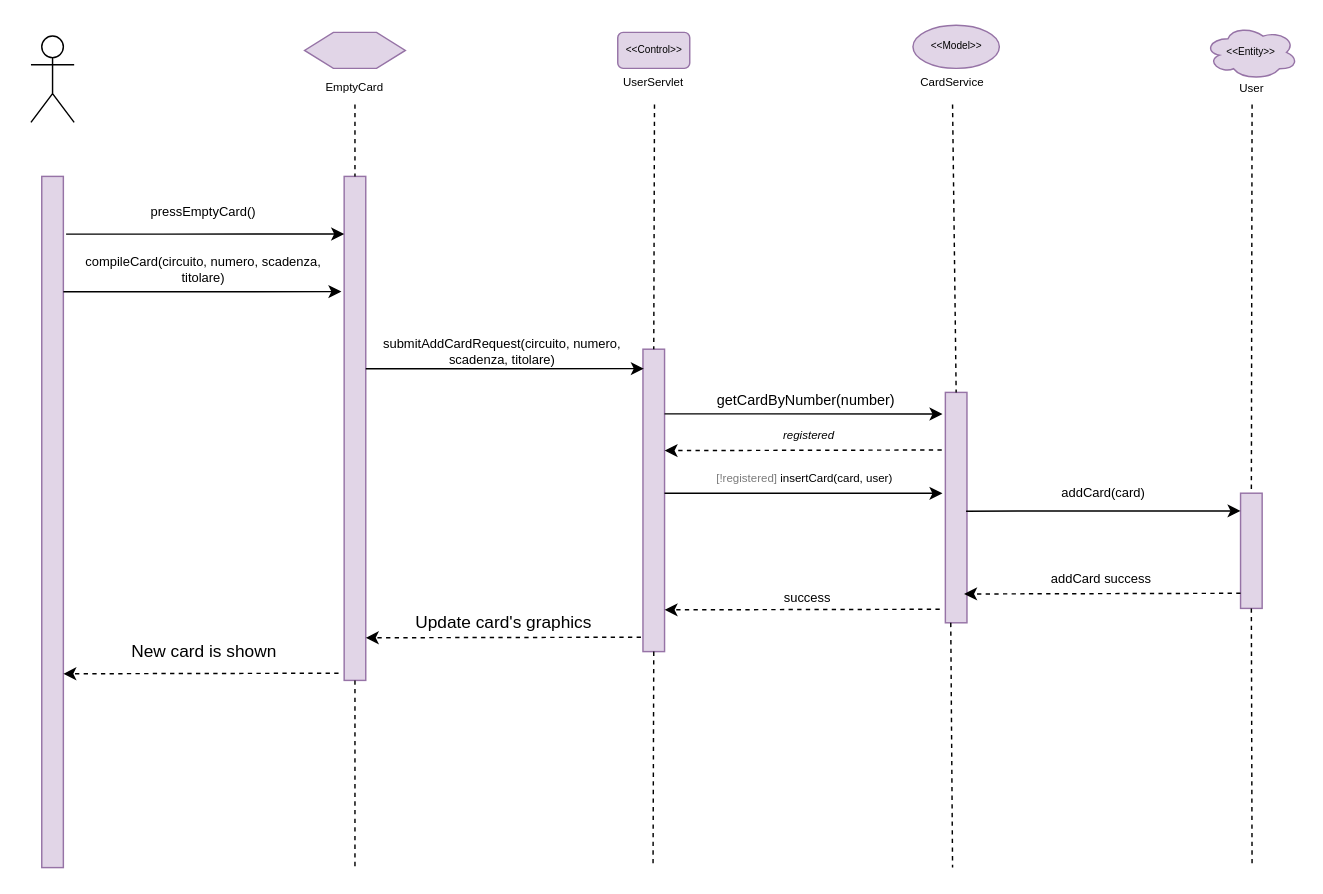
Image size: 1323x894. Some labels were removed from this diagram. Here are the shapes that lost their labels. From the top down, the centre of each, then its label:
At (x=354, y=49): "<<Boundary>>".
At (x=52, y=78): "Marcus".
